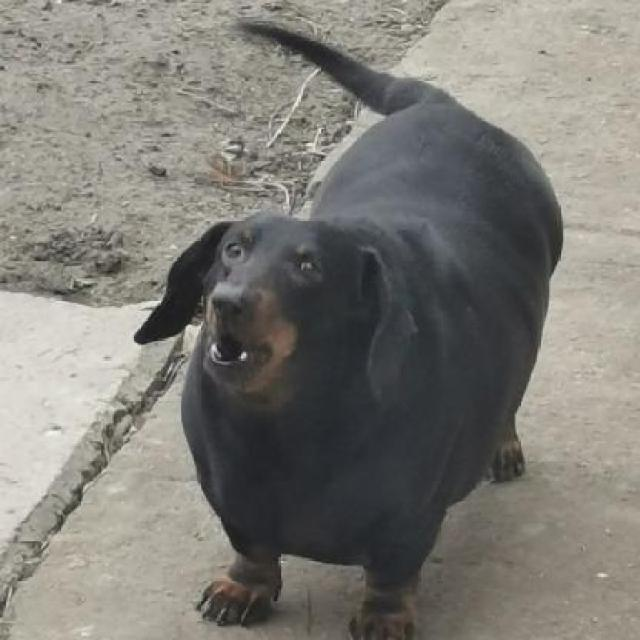Dog: (129, 16, 569, 638)
